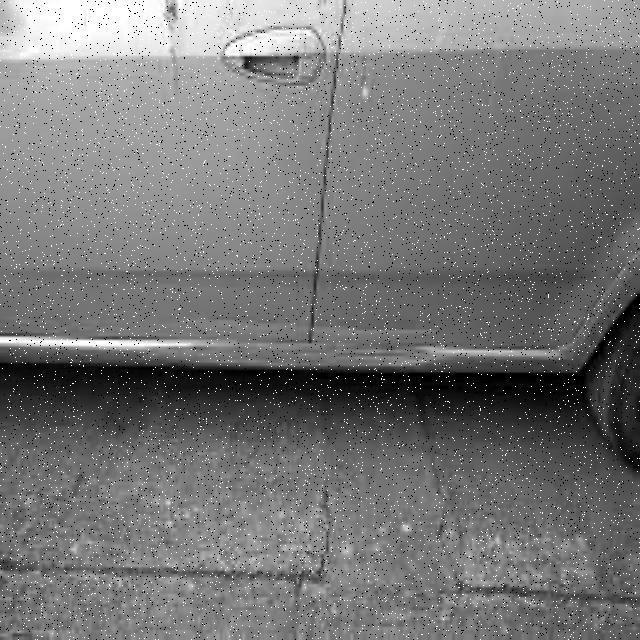Runningboard-Damage: (105, 337, 456, 386)
doorouter-dent: (318, 1, 639, 344), (2, 1, 318, 344)
